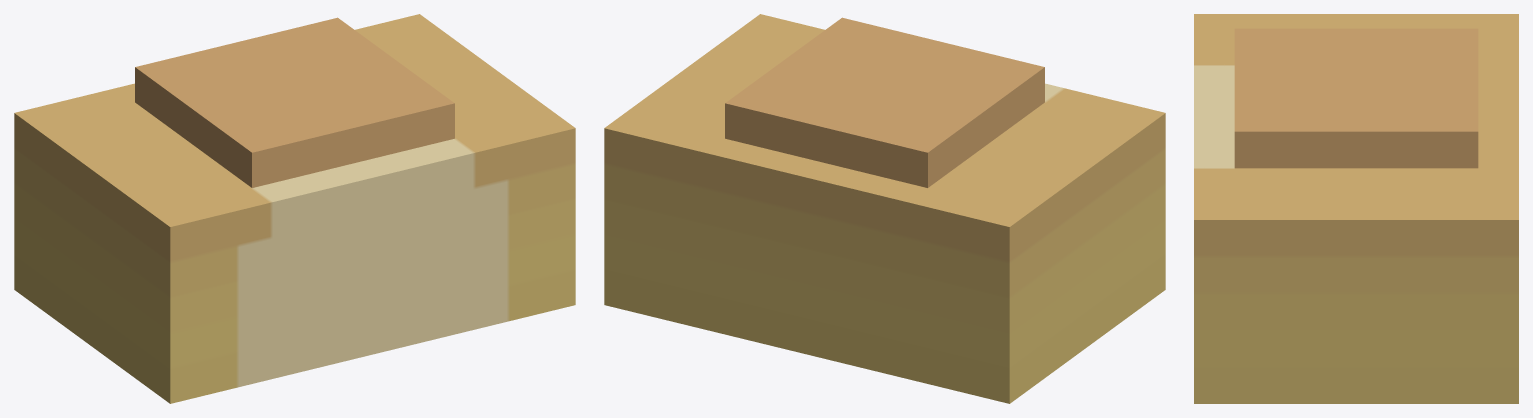
The model's file is Chest075.fbx.
3 views of the same model, side by side, from view 1: azimuth 30°, elevation 25°; view 2: azimuth 150°, elevation 25°; view 3: azimuth 270°, elevation 25° (orthographic). The views are drawn at different scales.
Visible parts, largest first — view 1: Chest075; view 2: Chest075; view 3: Chest075.
Boxes of the visible parts, <box> form: Chest075: <box>14,14,575,403</box>; Chest075: <box>604,14,1165,403</box>; Chest075: <box>1194,14,1518,403</box>.
Bounding box in the file's own units: 12 × 6 × 8.
